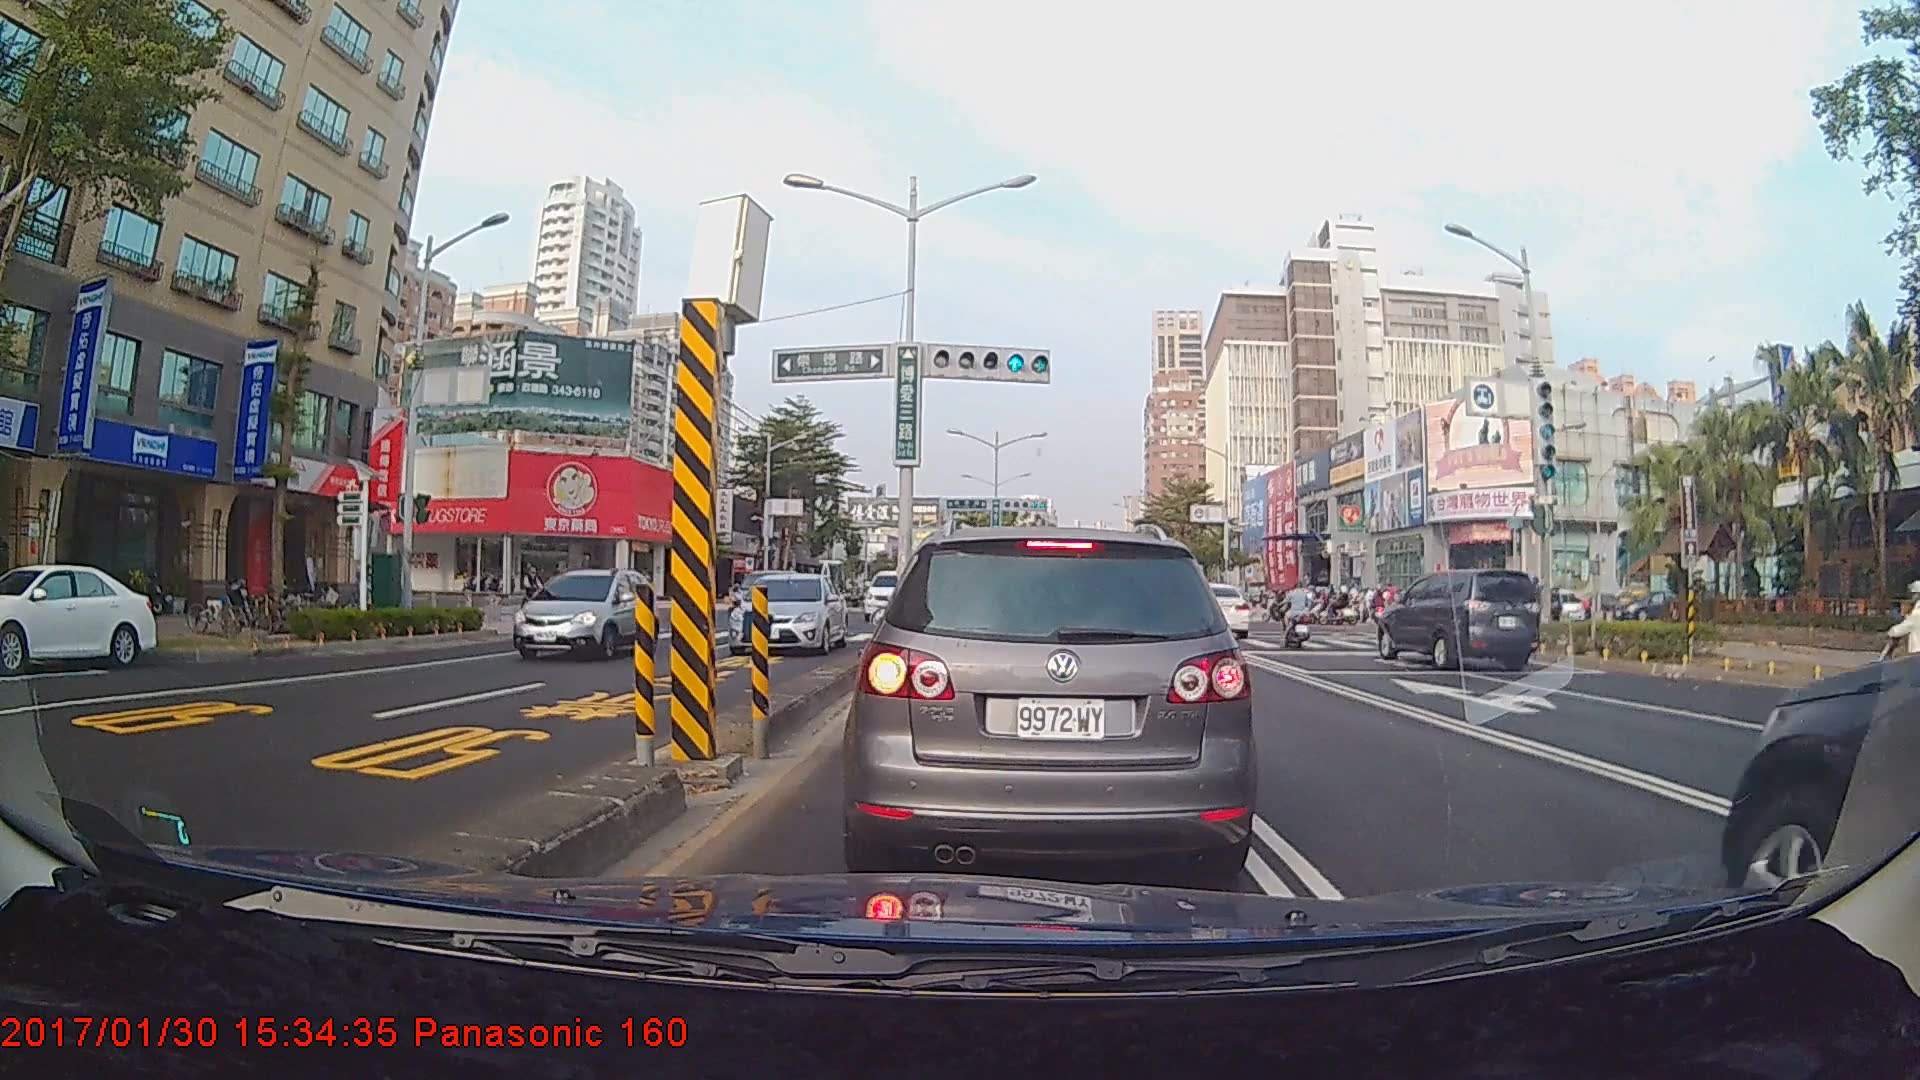rider: (1278, 578, 1325, 648), (518, 559, 561, 629)
vehicle: (856, 526, 1249, 877), (1720, 420, 1920, 1059), (0, 561, 157, 671), (1376, 566, 1541, 669), (513, 564, 658, 660), (727, 571, 846, 657), (1165, 582, 1249, 638)
